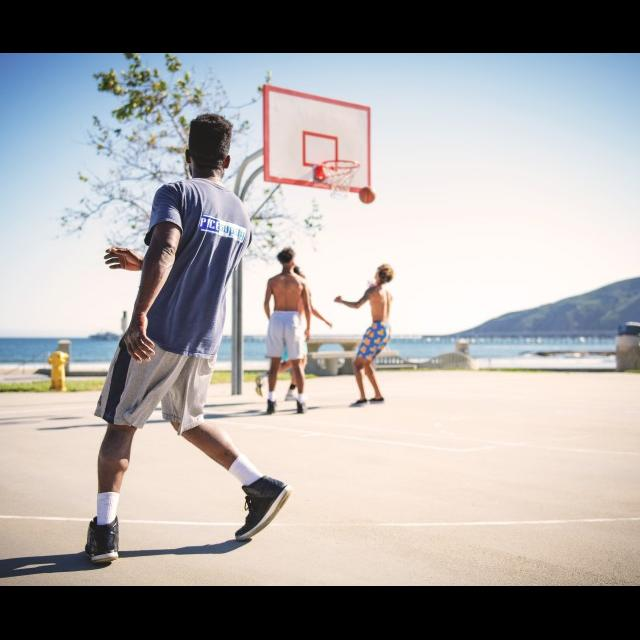basketball: (357, 187, 376, 203)
hoop: (323, 160, 358, 197)
